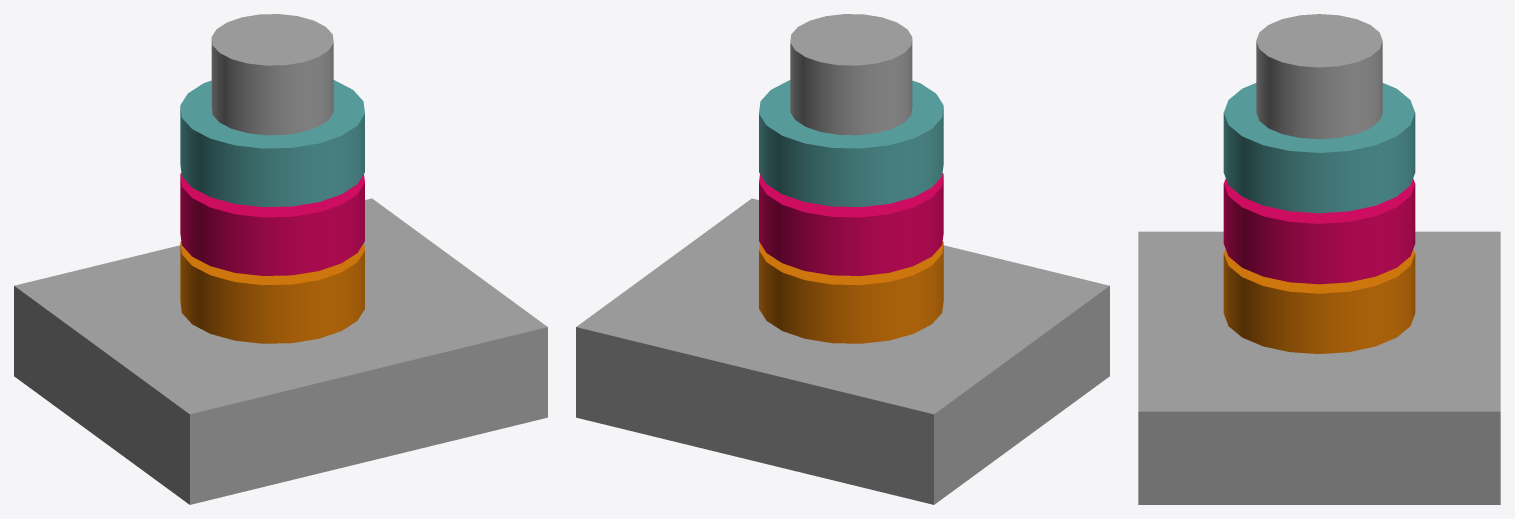
File: toy1.fbx
3 renders of one model, left to right at view 1: azimuth 30°, elevation 25°; view 2: azimuth 150°, elevation 25°; view 3: azimuth 270°, elevation 25°, orthographic. The views are drawn at different scales.
Parts seen in each view (by area): view 1: pCylinder27; view 2: pCylinder27; view 3: pCylinder27.
Boxes of the visible parts, box(x1,y1,x2,y2) form: pCylinder27: box(14, 14, 547, 504); pCylinder27: box(576, 14, 1109, 504); pCylinder27: box(1138, 14, 1500, 504).
Bounding box in the file's own units: 3.06 × 2.93 × 2.6.
